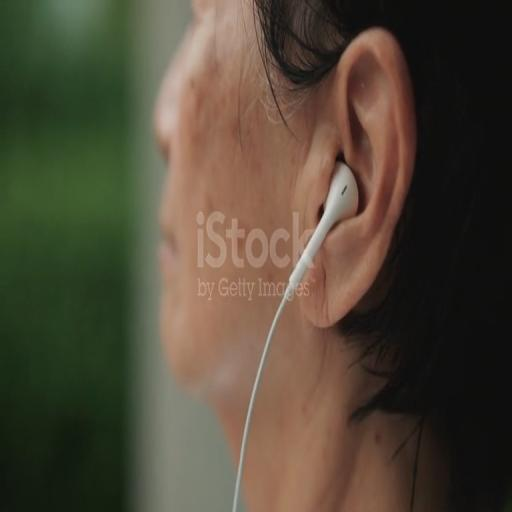earphone: (229, 146, 364, 512)
